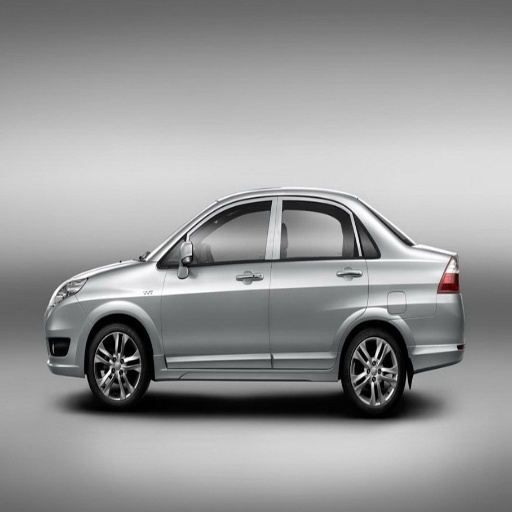back_left_door: (270, 195, 367, 370)
front_left_door: (161, 196, 277, 367)
